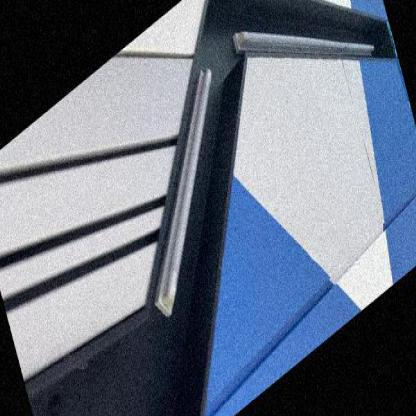light_off: (104, 40, 261, 336), (222, 0, 390, 177)
